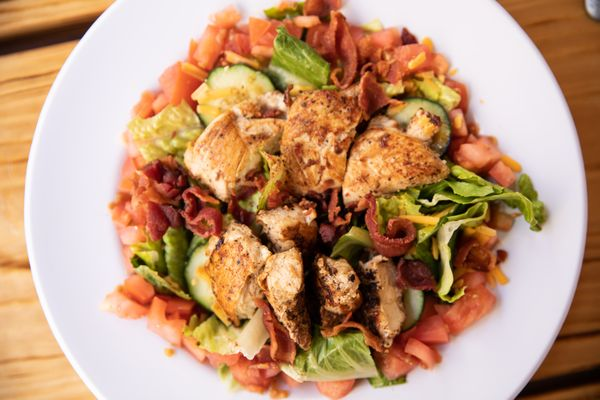curry: (7, 0, 593, 390)
